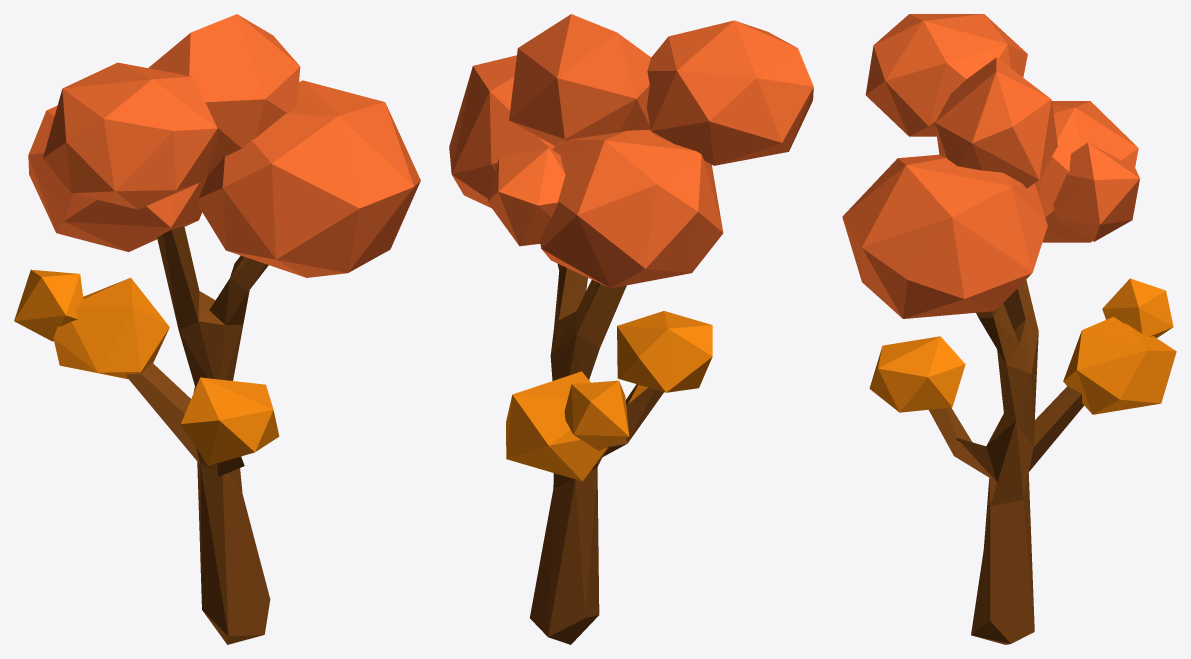
File: fall island TREE 03.fbx
The picture shows the model from 3 angles, left to right: view 1: azimuth 30°, elevation 25°; view 2: azimuth 150°, elevation 25°; view 3: azimuth 270°, elevation 25°; orthographic projection. The views are drawn at different scales.
Visible parts, largest first — view 1: tree03; view 2: tree03; view 3: tree03.
Boxes of the visible parts, <box> form: tree03: <box>14,14,420,644</box>; tree03: <box>449,14,813,644</box>; tree03: <box>842,14,1176,644</box>.
Bounding box in the file's own units: 1075 × 1863 × 981.
